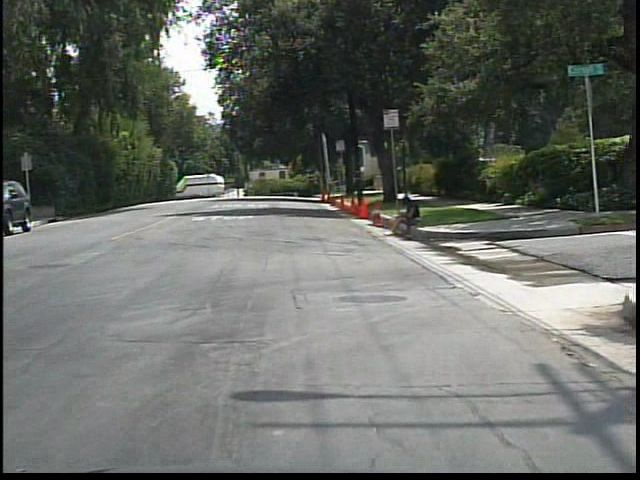person: (384, 191, 429, 241)
